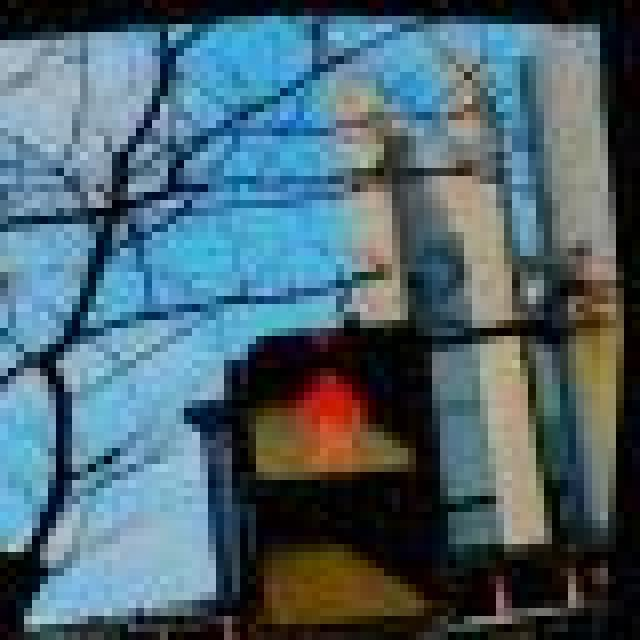redlight: (220, 327, 460, 640)
